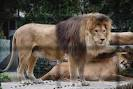lion: (10, 12, 112, 87)
